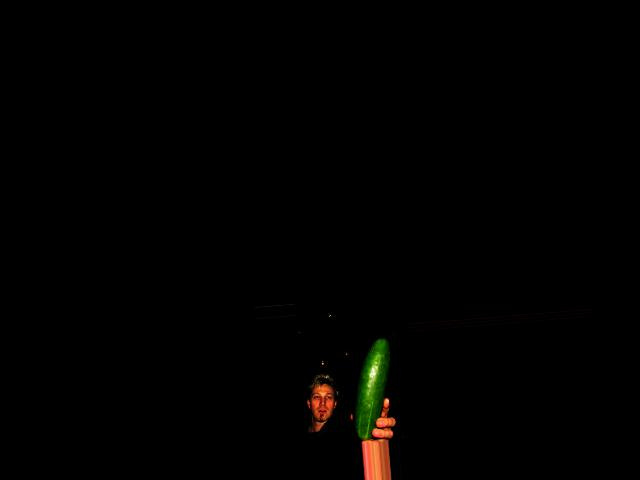cucumber: (348, 337, 397, 440)
